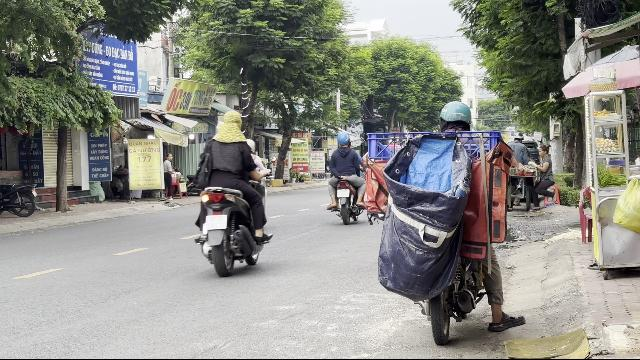helmet: (438, 99, 472, 128)
licenseplate: (206, 215, 227, 229)
motorcyclist: (370, 97, 528, 347), (192, 108, 272, 274)
nohelmet: (212, 109, 245, 142)
